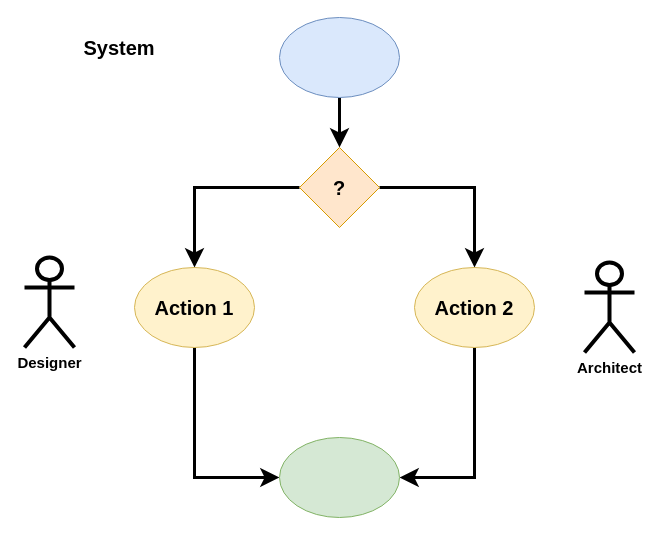
Some shapes in this 659 by 535 pixel diagram are drawn without their labels. The centre of each missing label's shape, as x and y in pixels:
"End" goes at (339,477).
"Start" goes at (339,57).
